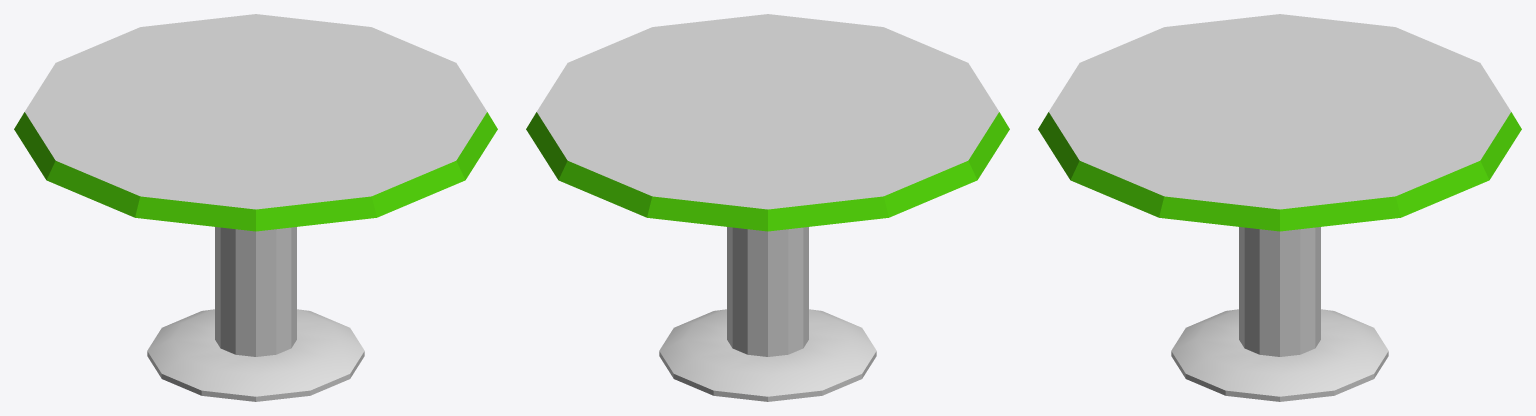
The model's file is Table1.fbx.
3 views of the same model, side by side, from view 1: azimuth 30°, elevation 25°; view 2: azimuth 150°, elevation 25°; view 3: azimuth 270°, elevation 25° (orthographic).
Parts seen in each view (by area): view 1: Table1; view 2: Table1; view 3: Table1.
Part boxes in pixels (x1,y1,x2,y2): Table1: (14,14,497,401); Table1: (526,14,1009,401); Table1: (1038,14,1521,401).
Bounding box in the file's own units: 146 × 81.05 × 146.
